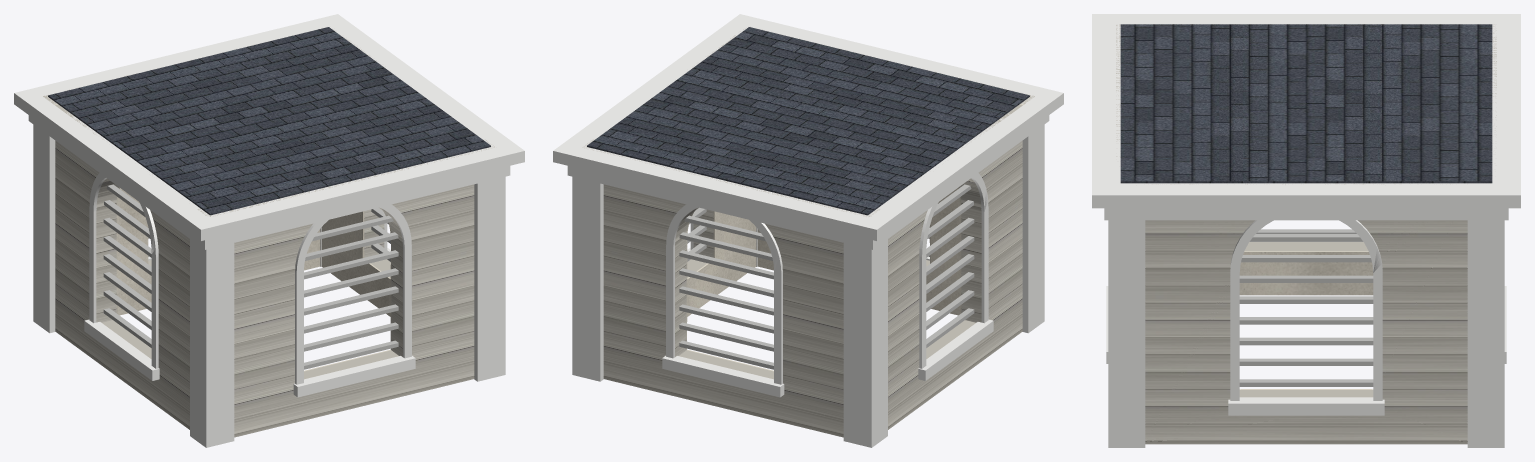
File: tower_belfry.glb
The picture shows the model from 3 angles, left to right: view 1: azimuth 30°, elevation 25°; view 2: azimuth 150°, elevation 25°; view 3: azimuth 270°, elevation 25°; orthographic projection. The views are drawn at different scales.
Parts seen in each view (by area): view 1: tower_belfry_trim, tower_belfry_siding, tower_belfry_shingle, tower_belfry_louvre, tower_belfry_plaster; view 2: tower_belfry_trim, tower_belfry_siding, tower_belfry_shingle, tower_belfry_louvre, tower_belfry_plaster; view 3: tower_belfry_shingle, tower_belfry_trim, tower_belfry_siding, tower_belfry_louvre, tower_belfry_plaster.
Part boxes in pixels (x1,y1,x2,y2): tower_belfry_trim: (14, 14, 524, 447); tower_belfry_siding: (43, 27, 494, 437); tower_belfry_shingle: (48, 27, 490, 215); tower_belfry_louvre: (103, 184, 398, 369); tower_belfry_plaster: (54, 104, 391, 371); tower_belfry_trim: (553, 14, 1063, 447); tower_belfry_siding: (582, 26, 1034, 437); tower_belfry_shingle: (587, 27, 1029, 215); tower_belfry_louvre: (679, 184, 974, 369); tower_belfry_plaster: (686, 104, 1023, 371); tower_belfry_shingle: (1120, 24, 1492, 183); tower_belfry_trim: (1092, 14, 1520, 447); tower_belfry_siding: (1116, 24, 1496, 444); tower_belfry_louvre: (1239, 229, 1373, 386); tower_belfry_plaster: (1239, 251, 1373, 389).
Bounding box in the file's own units: 4.5 × 3.02 × 4.5.
Materials: 5 (3 with a texture image).
